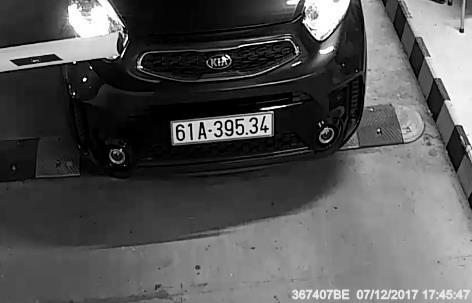License-plate: (168, 108, 283, 150)
